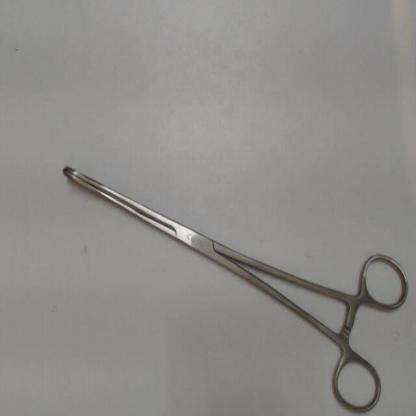Sponge Forceps: (53, 154, 411, 415)
